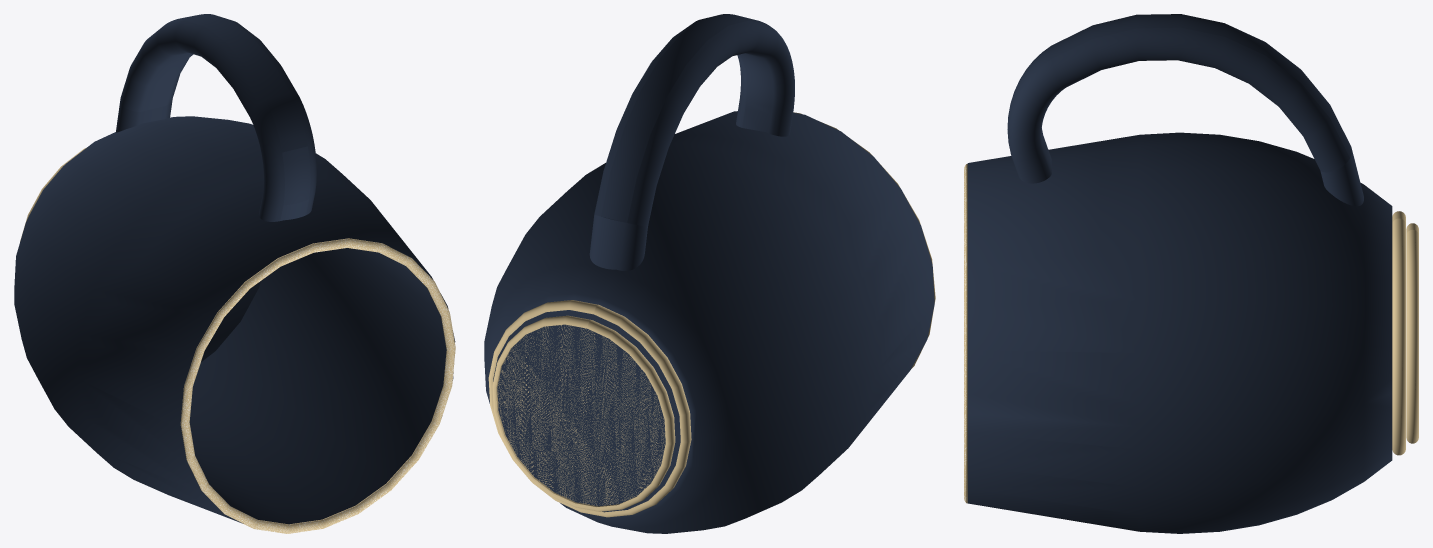
File: model_scale.obj
3 renders of one model, left to right at view 1: azimuth 30°, elevation 25°; view 2: azimuth 150°, elevation 25°; view 3: azimuth 270°, elevation 25°, orthographic. The views are drawn at different scales.
Parts seen in each view (by area): view 1: mesh3_mesh3-geometry, mesh4_mesh4-geometry, mesh5_mesh5-geometry; view 2: mesh3_mesh3-geometry, mesh2_mesh2-geometry, mesh4_mesh4-geometry, mesh1_mesh1-geometry; view 3: mesh3_mesh3-geometry, mesh4_mesh4-geometry, mesh1_mesh1-geometry, mesh2_mesh2-geometry, mesh5_mesh5-geometry.
Boxes of the visible parts, x1,y1,x2,y2 form: mesh3_mesh3-geometry: (14, 116, 455, 524); mesh4_mesh4-geometry: (115, 14, 316, 221); mesh5_mesh5-geometry: (180, 238, 455, 533); mesh3_mesh3-geometry: (484, 111, 934, 533); mesh2_mesh2-geometry: (492, 315, 675, 511); mesh4_mesh4-geometry: (589, 14, 794, 270); mesh1_mesh1-geometry: (488, 300, 691, 517); mesh3_mesh3-geometry: (967, 132, 1392, 533); mesh4_mesh4-geometry: (1007, 14, 1363, 206); mesh1_mesh1-geometry: (1392, 211, 1405, 455); mesh2_mesh2-geometry: (1406, 223, 1418, 443); mesh5_mesh5-geometry: (964, 164, 967, 503).
Size of the model in its own units: 0.0767 by 0.1045 by 0.0868.
